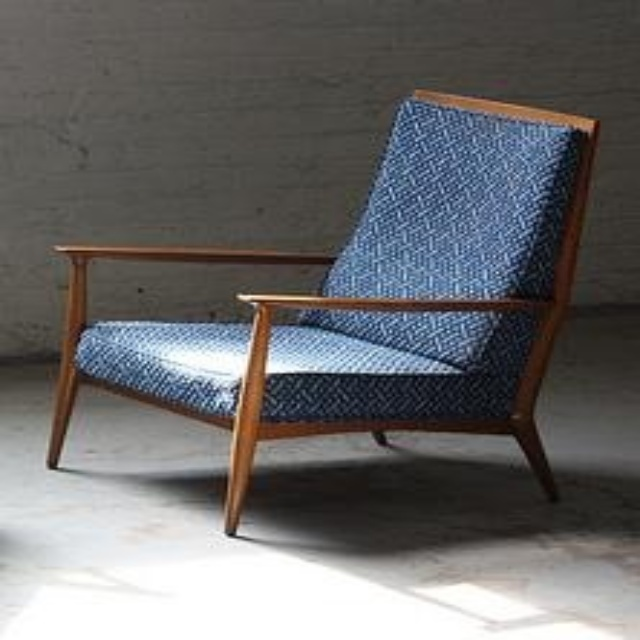obstacle: (46, 90, 594, 531)
